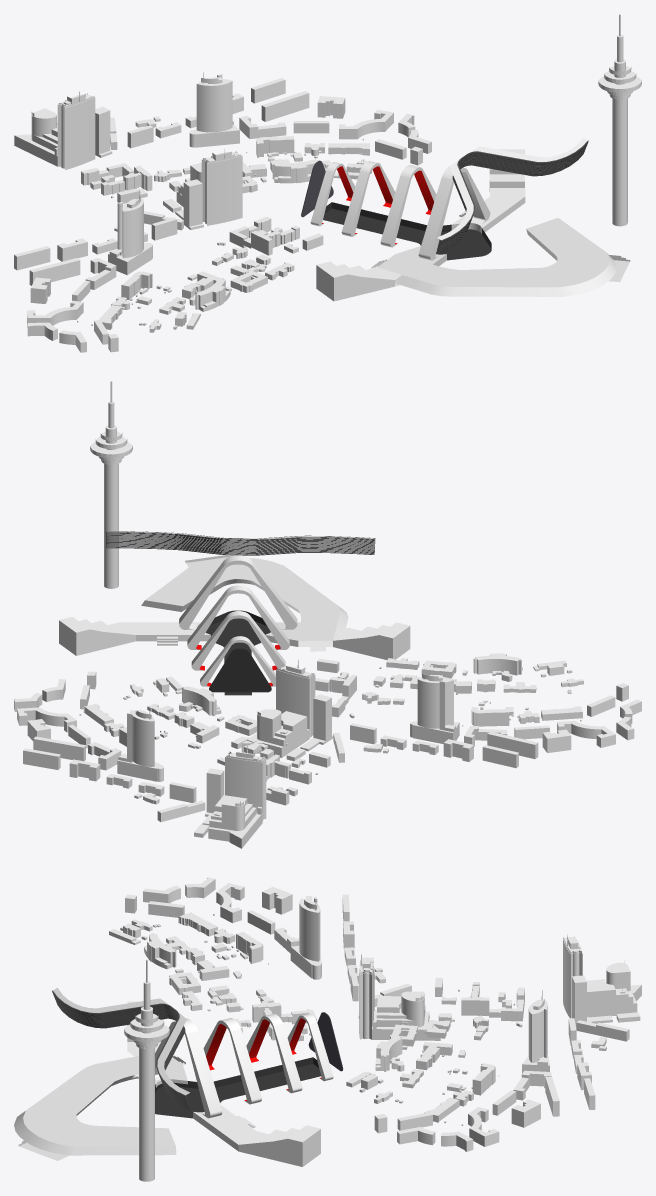
Rendered from mapObject3.glb.
3 renders of one model, top to bottom at view 1: azimuth 30°, elevation 25°; view 2: azimuth 150°, elevation 25°; view 3: azimuth 270°, elevation 25°, orthographic. The views are drawn at different scales.
Parts seen in each view (by area): view 1: stage, build.001, build, menara; view 2: stage, build, build.001, menara; view 3: stage, build.001, build, menara.
Boxes of the visible parts, bbox=[...] form: stage: bbox=[301, 137, 630, 301]; build.001: bbox=[14, 72, 431, 203]; build: bbox=[14, 149, 323, 352]; menara: bbox=[598, 14, 641, 226]; stage: bbox=[59, 531, 410, 695]; build: bbox=[241, 653, 641, 768]; build.001: bbox=[14, 671, 330, 848]; menara: bbox=[90, 381, 132, 588]; stage: bbox=[14, 988, 343, 1166]; build.001: bbox=[346, 934, 641, 1151]; build: bbox=[109, 877, 440, 1041]; menara: bbox=[124, 959, 169, 1181].
Bounding box in the file's own units: 0.4092 × 0.1439 × 0.3652.
